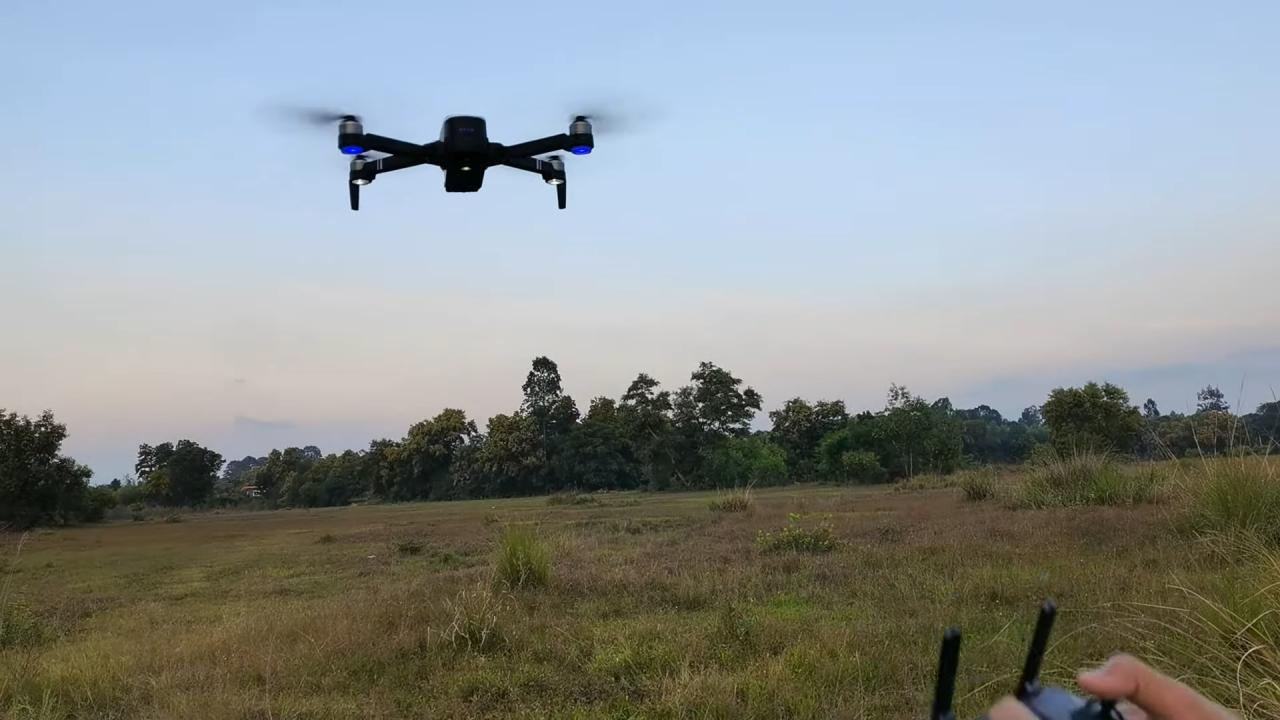Drone: (258, 92, 682, 225)
